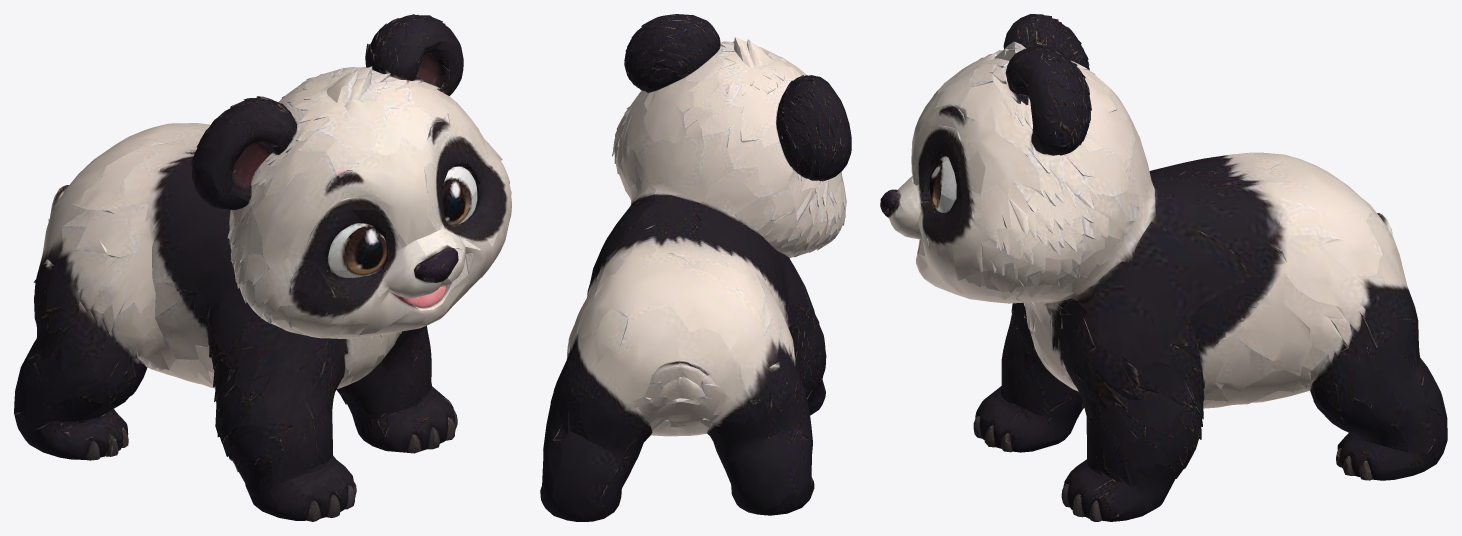
The model's file is panda.glb.
3 renders of one model, left to right at view 1: azimuth 30°, elevation 25°; view 2: azimuth 150°, elevation 25°; view 3: azimuth 270°, elevation 25°, orthographic. The views are drawn at different scales.
Bounding box in the file's own units: 1.33 × 1.61 × 1.9.
Materials: 1 (1 with a texture image).
